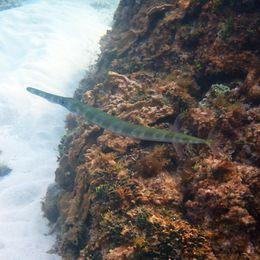Fistularia commersonii: (24, 84, 214, 155)
